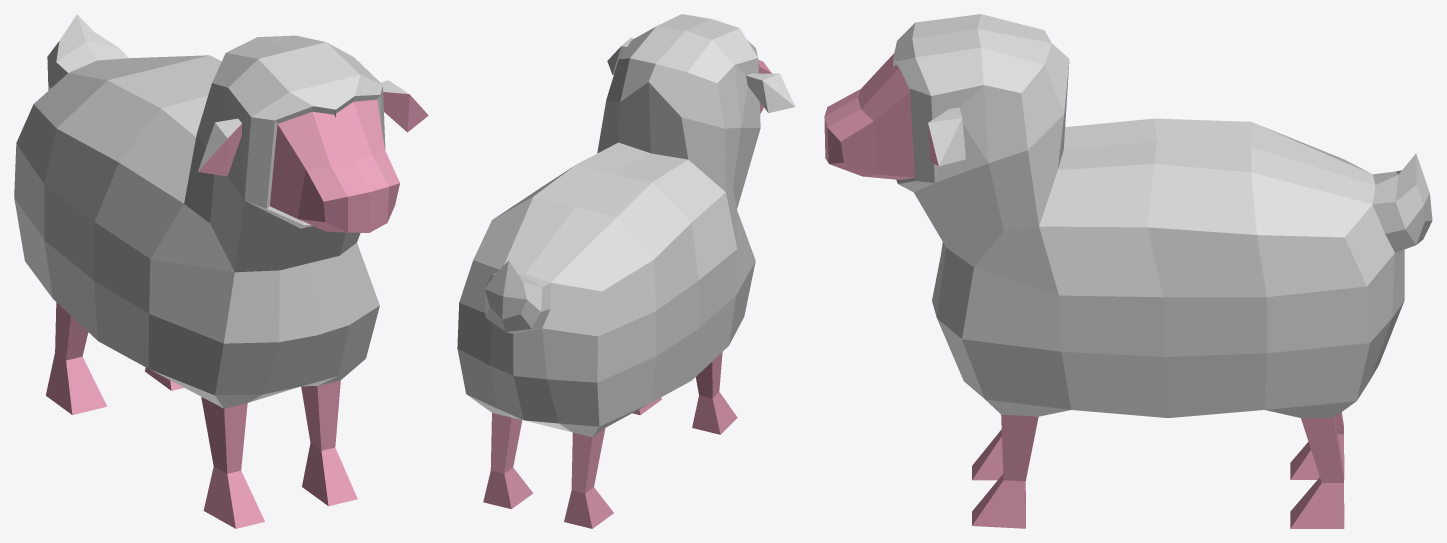
The model's file is oveja.fbx.
3 views of the same model, side by side, from view 1: azimuth 30°, elevation 25°; view 2: azimuth 150°, elevation 25°; view 3: azimuth 270°, elevation 25° (orthographic). The views are drawn at different scales.
Visible parts, largest first — view 1: Cube.152; view 2: Cube.152; view 3: Cube.152.
Boxes of the visible parts, box(x1,y1,x2,y2) form: Cube.152: box(14, 14, 428, 528); Cube.152: box(457, 14, 795, 528); Cube.152: box(824, 14, 1432, 528).
Bounding box in the file's own units: 49.28 × 94.23 × 111.
